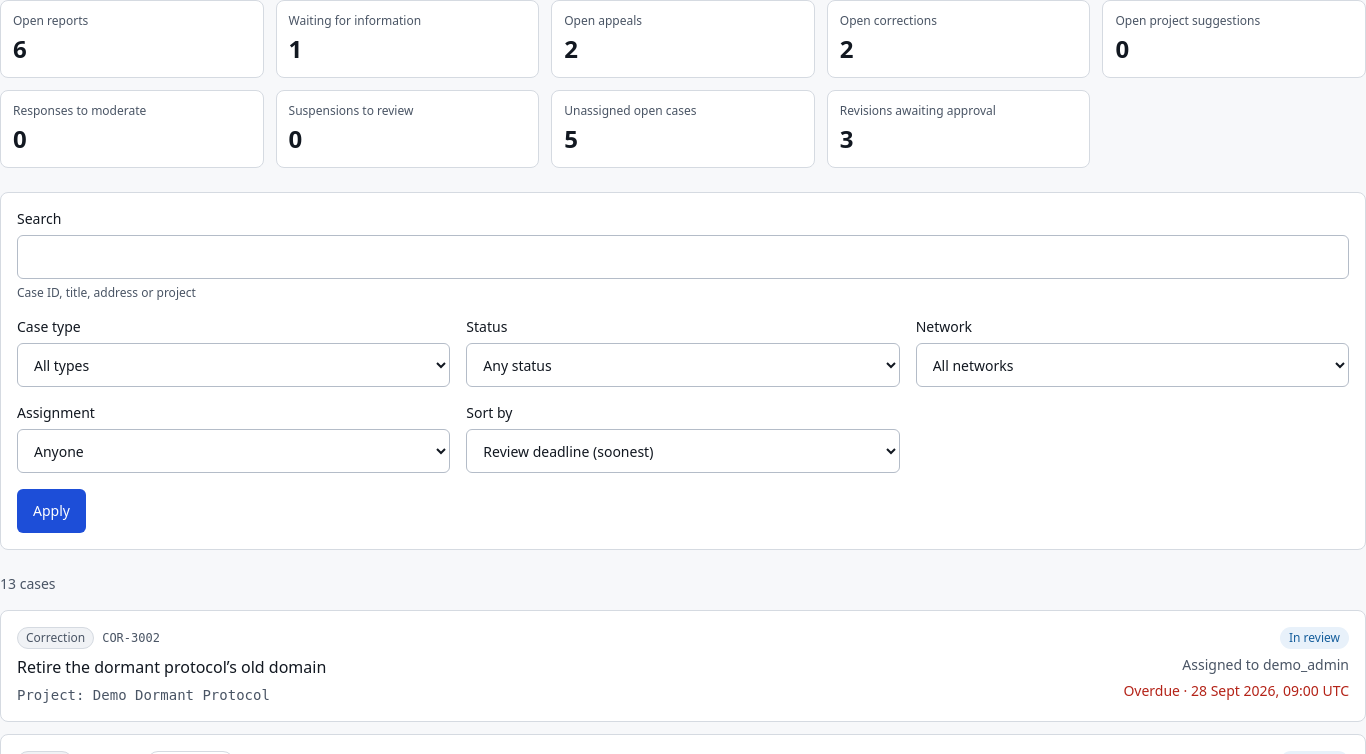
review dashboard › filters by type with only that type’s documented statuses, and by assignment
Expected: the text "Open reports" is shown, [13,12,88,29]
Select "Appeal" in the dropdown labelled "Case type". click: (234, 365)
box: [17,343,450,387]
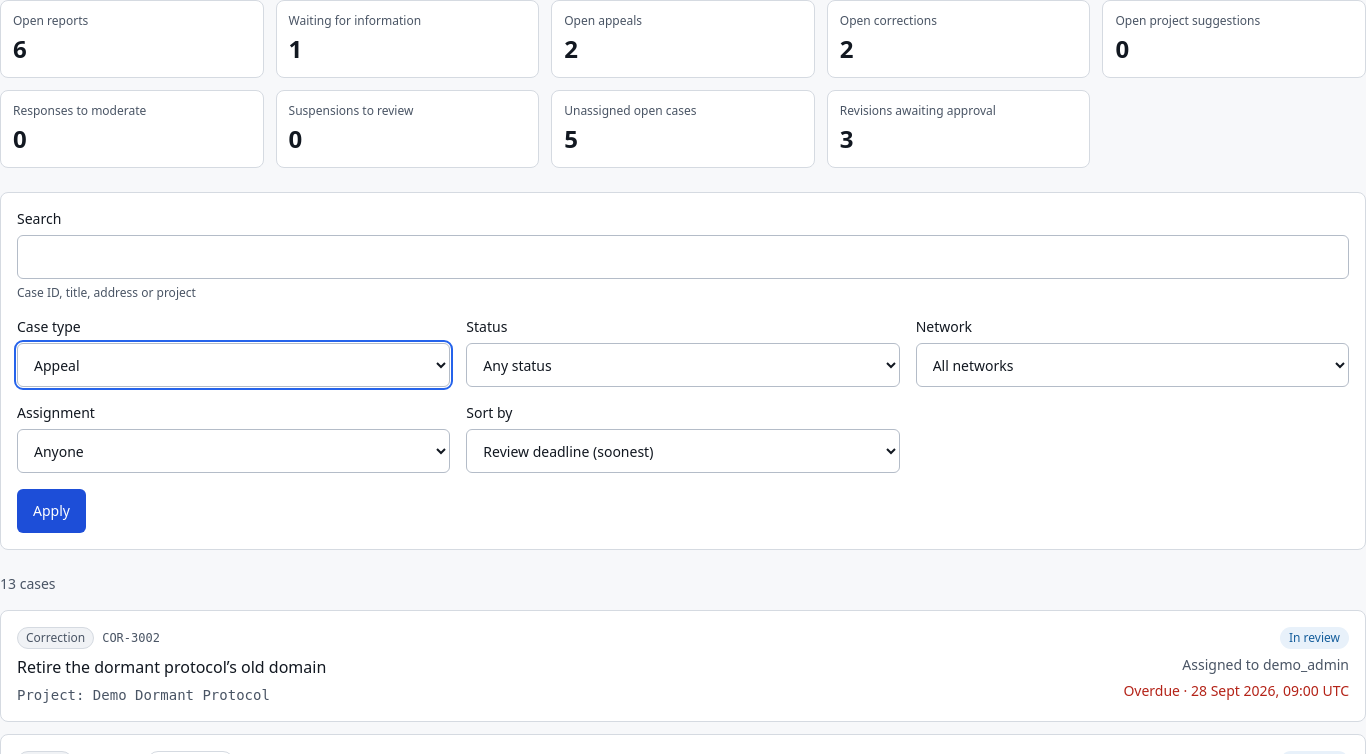
Select "Unassigned" in the dropdown labelled "Assignment". click: (234, 451)
box: [17,429,450,473]
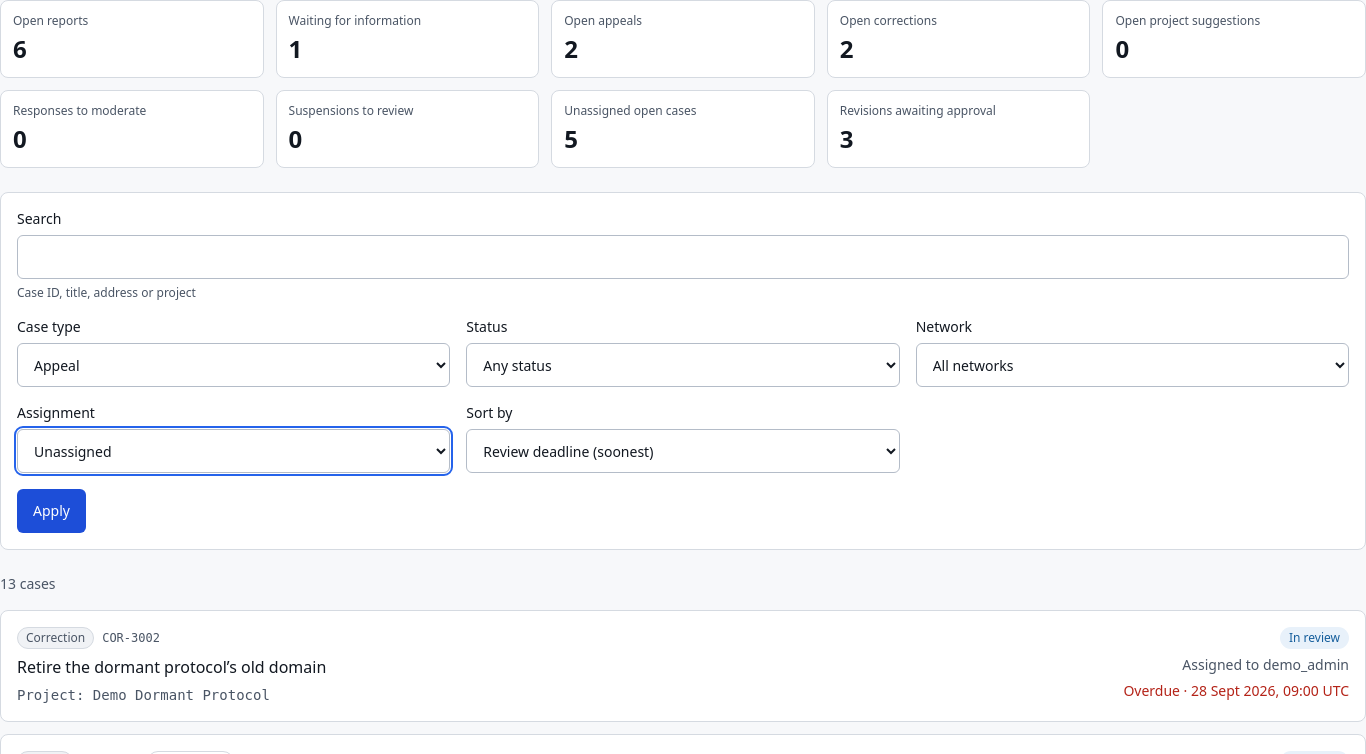
Click the button "Apply". click: (51, 511)
box: [17,489,86,533]
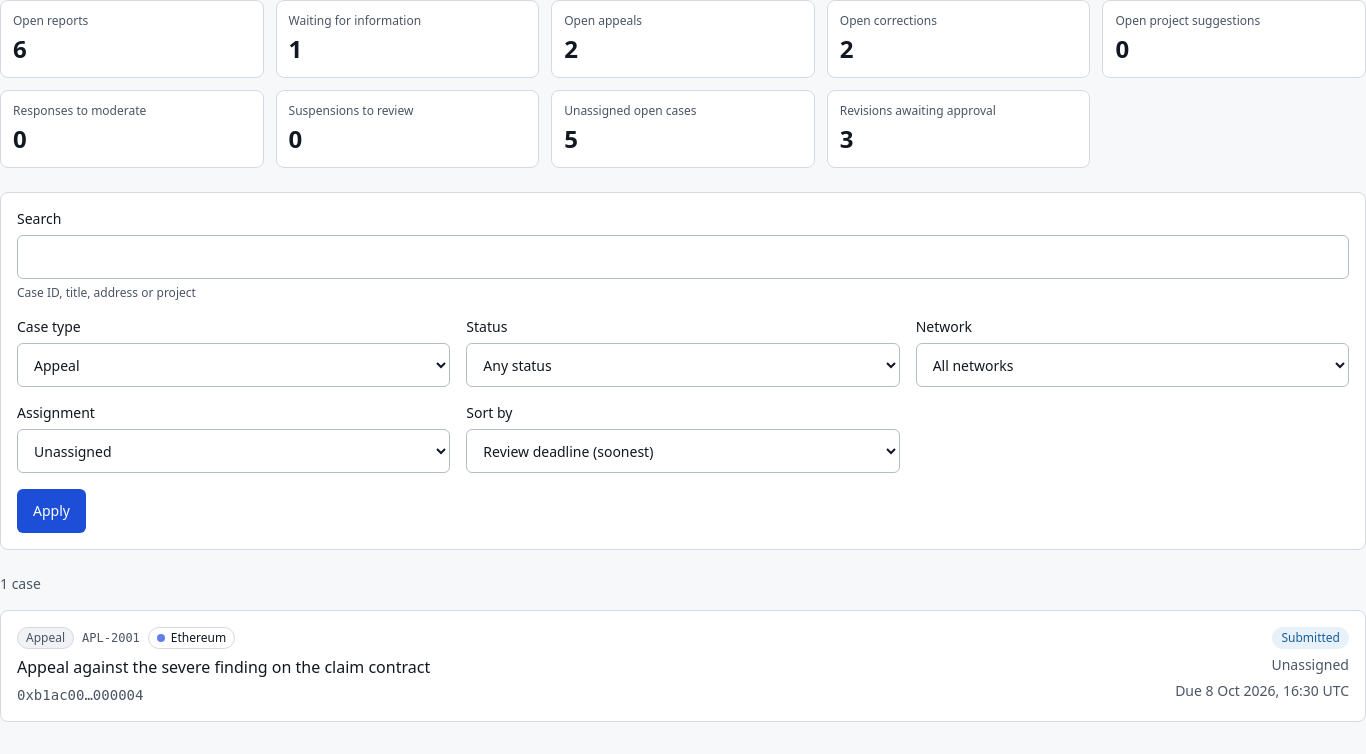
Now the heading "1 case" is shown, box [0,574,41,593]
Now the link "Appeal against the severe finding on the claim contract" is shown, box [17,656,430,678]
